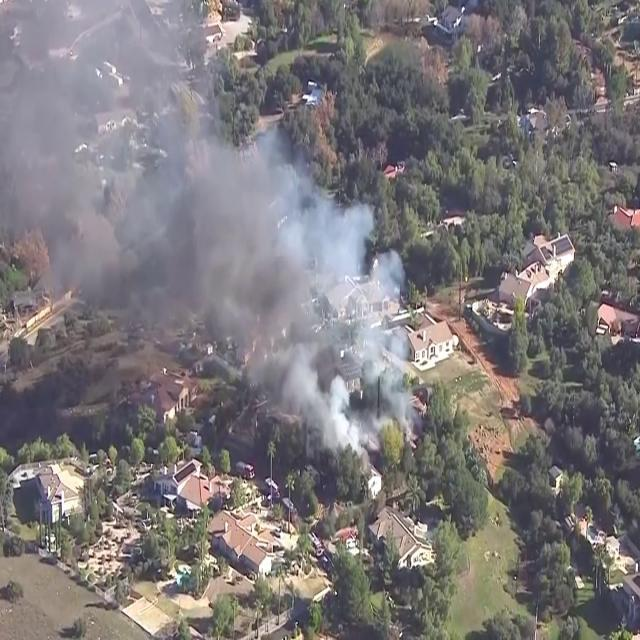Smoke: (0, 16, 421, 474)
